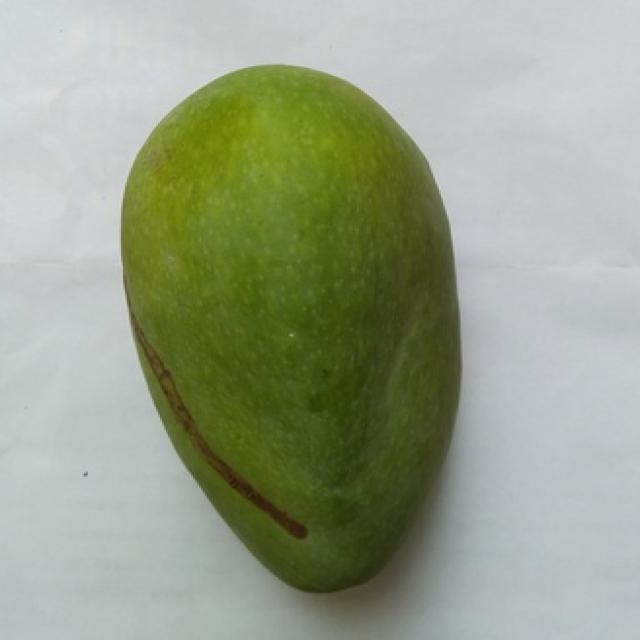Mango: (125, 66, 457, 590)
